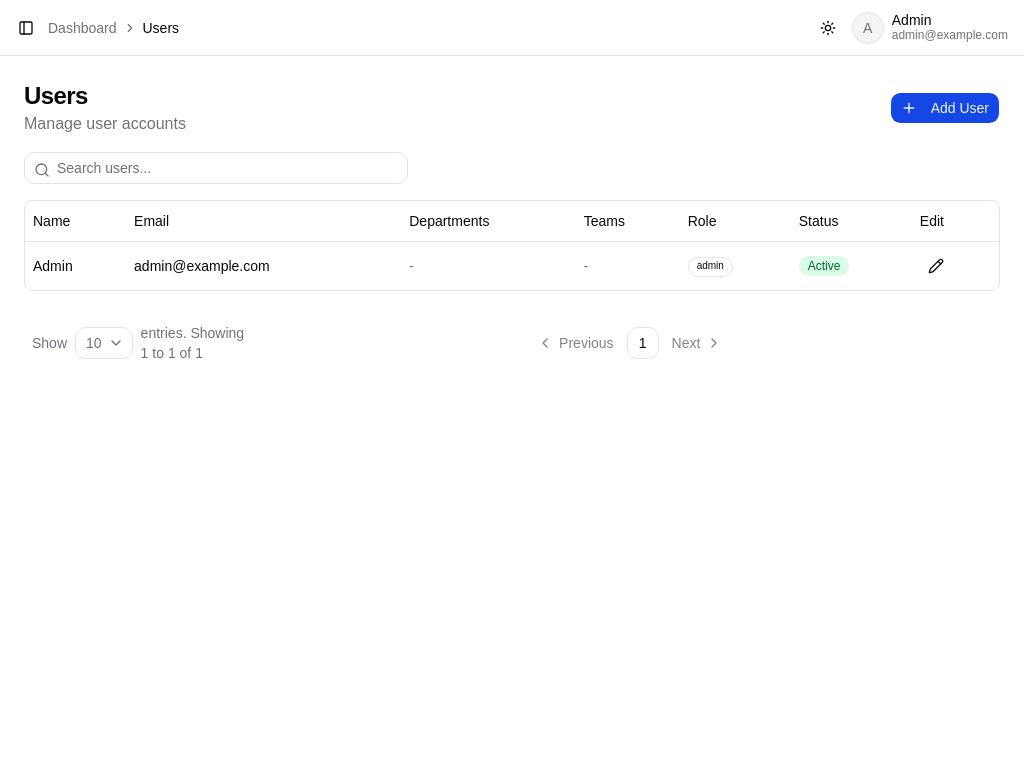
Users page › opens Add User dialog and shows validation error for invalid email
The image size is (1024, 768).
Click the button "Add User" at (945,108), box [890, 92, 1000, 124]
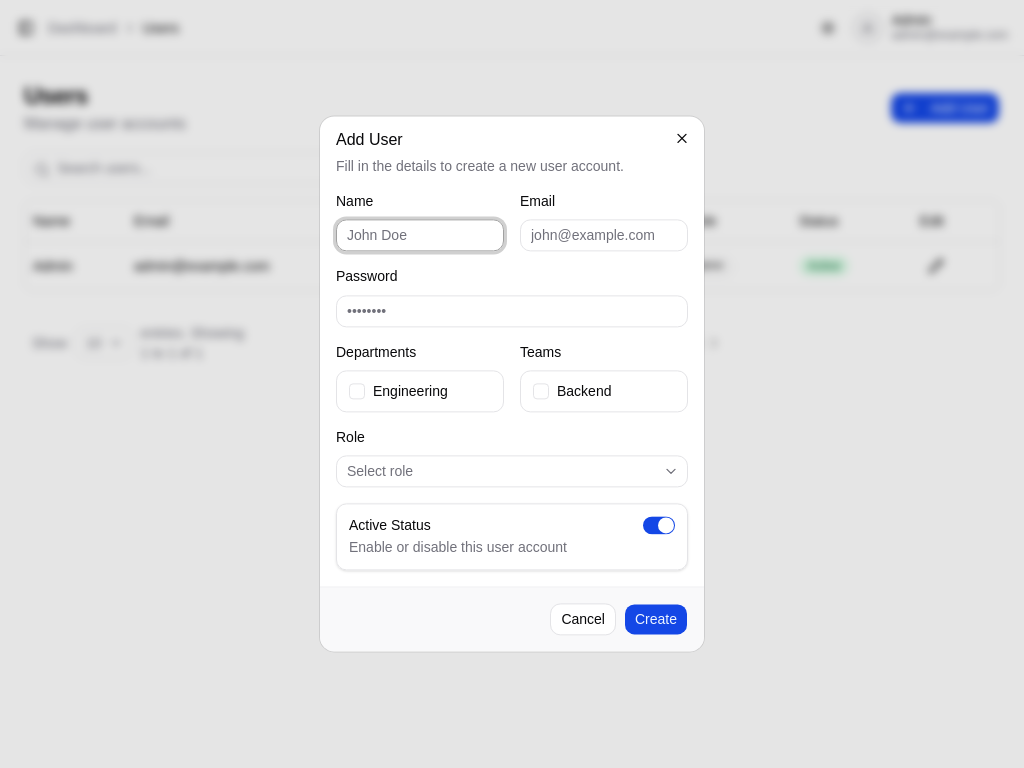
Check: the field with placeholder "John Doe" is shown
Type "New User" into the field with placeholder "John Doe" at (420,236), box [336, 220, 504, 252]
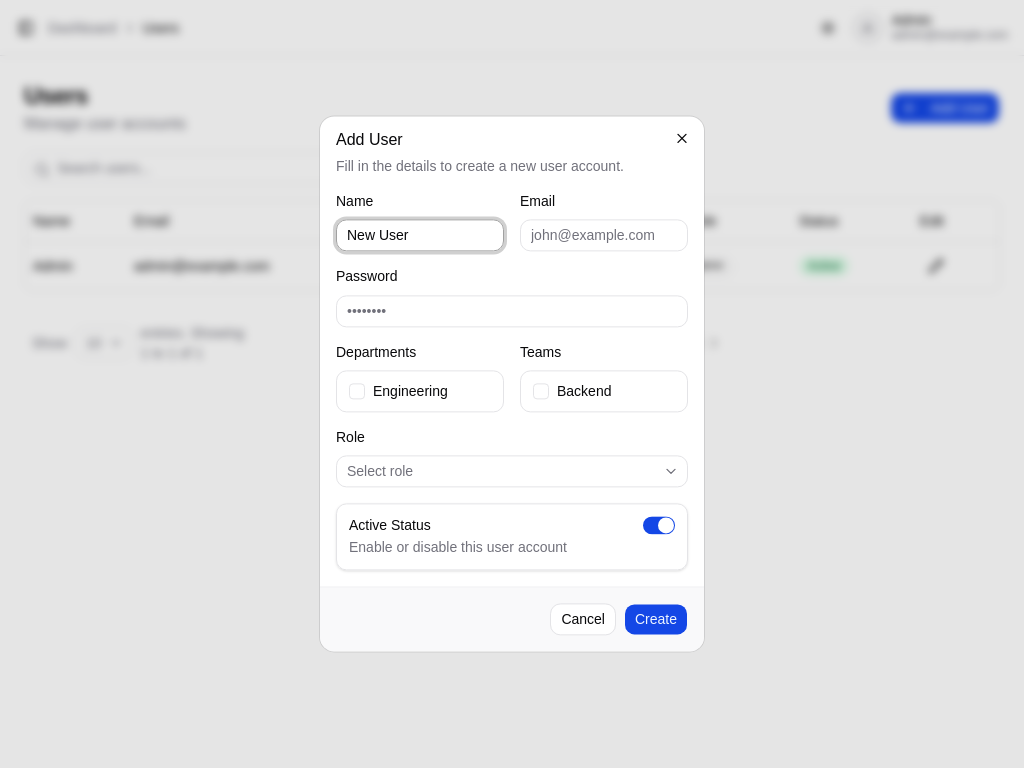
Type "invalid-email" into the field with placeholder "john@example.com" at (604,236), box [520, 220, 688, 252]
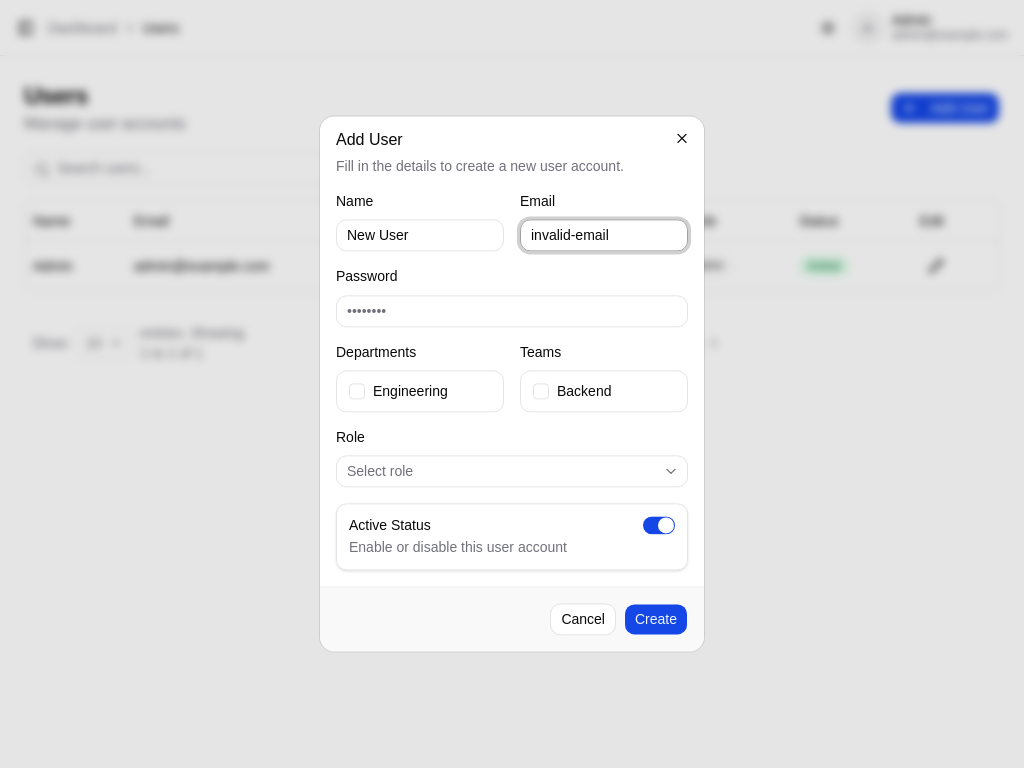
Type "password123" into the password field with placeholder "••••••••" at (512,311), box [336, 295, 688, 327]
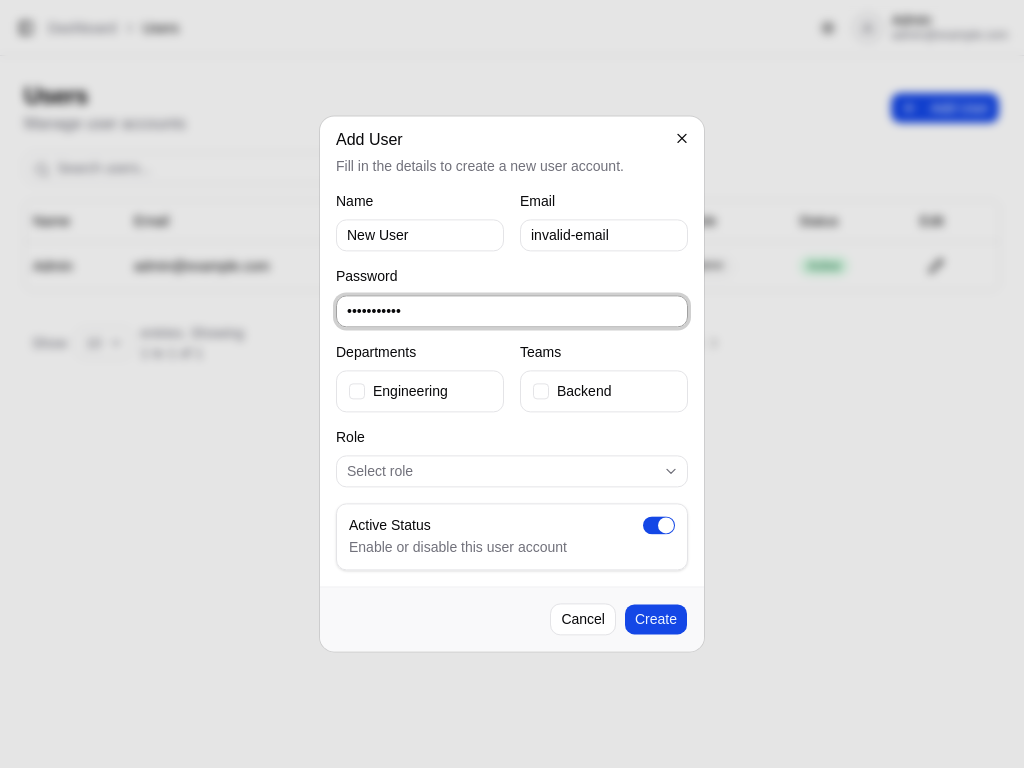
Click the button "Create" at (656,620), box [624, 604, 688, 636]
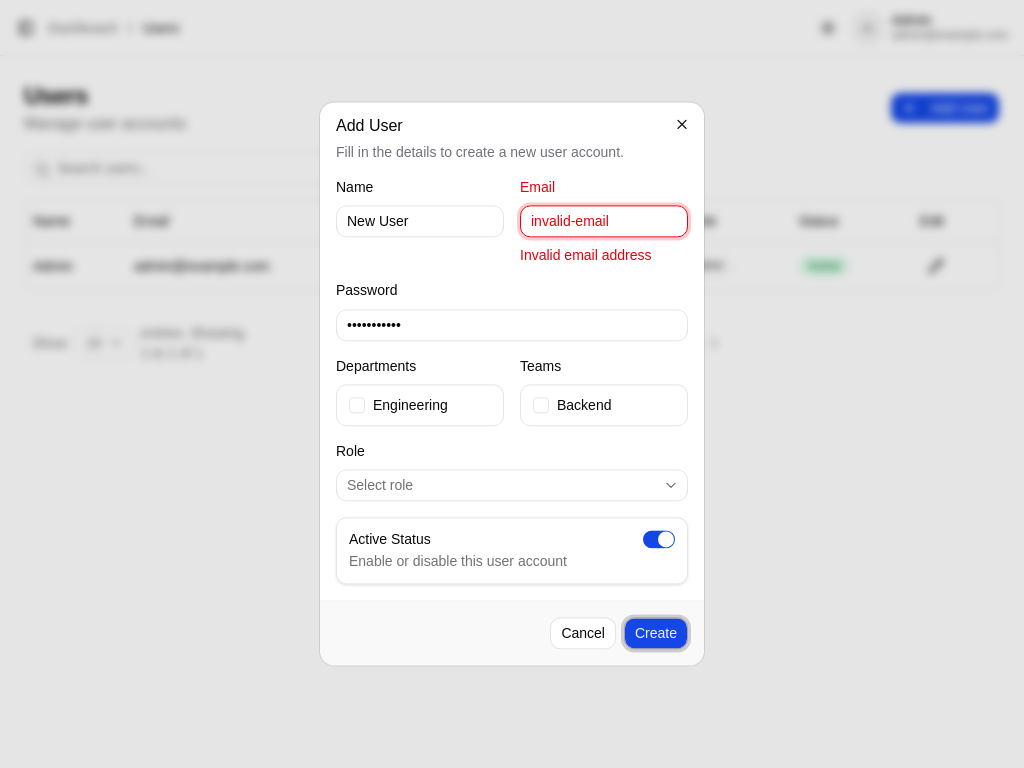
Check: the text "Invalid email address" is shown, box [520, 248, 652, 264]
